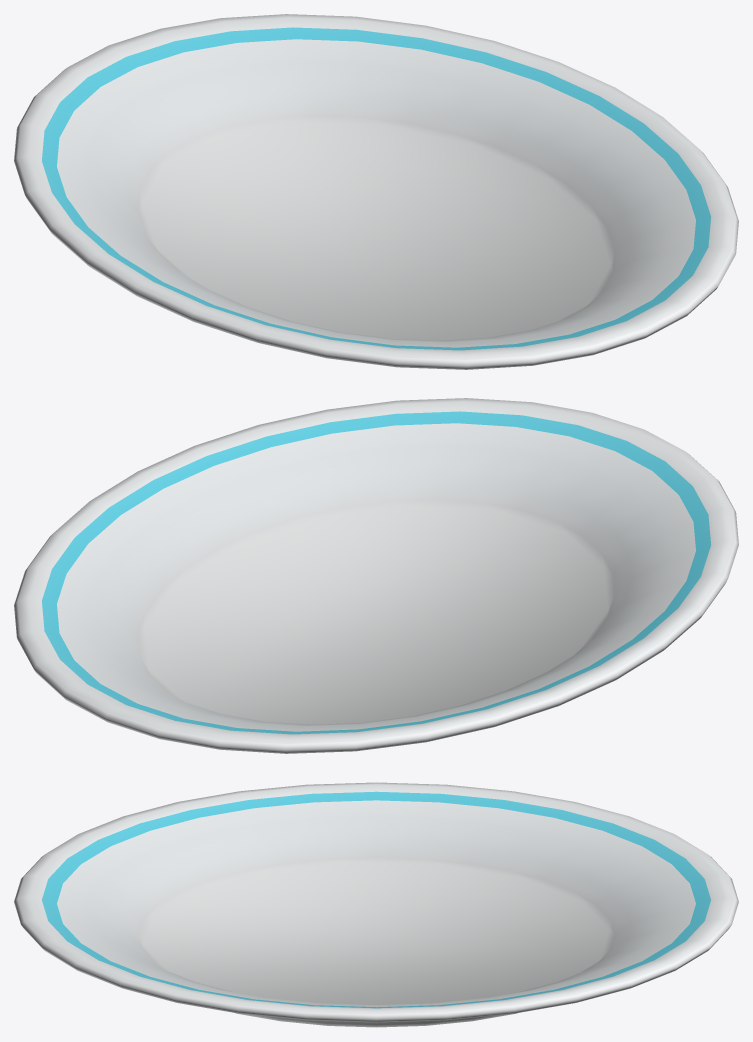
File: plate_008.fbx
The picture shows the model from 3 angles, top to bottom: view 1: azimuth 30°, elevation 25°; view 2: azimuth 150°, elevation 25°; view 3: azimuth 270°, elevation 25°; orthographic projection. The views are drawn at different scales.
Parts seen in each view (by area): view 1: plate_008; view 2: plate_008; view 3: plate_008.
Part boxes in pixels (x1,y1,x2,y2): plate_008: [14, 14, 738, 369]; plate_008: [14, 398, 738, 753]; plate_008: [14, 782, 738, 1027].
Size of the model in its own units: 23.24 by 30.35 by 2.28.
